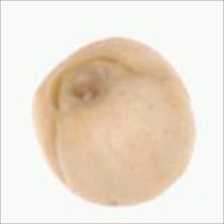L3: (52, 62, 126, 111)
L4: (32, 37, 197, 207)
